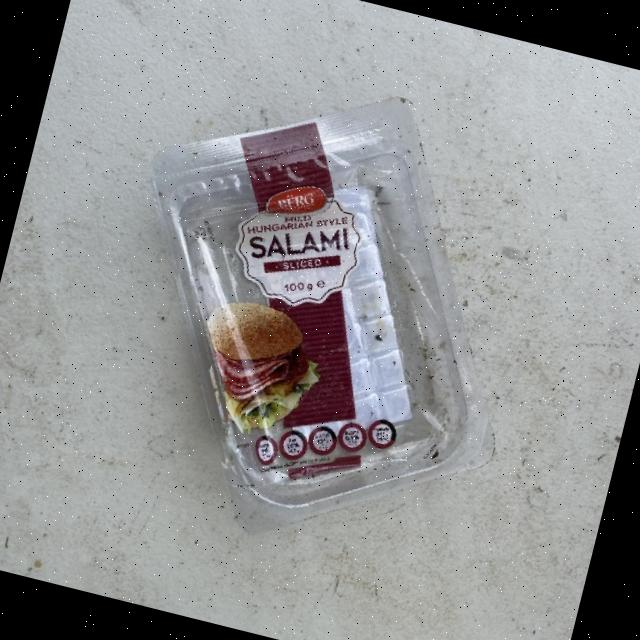plastic: (72, 40, 570, 571)
